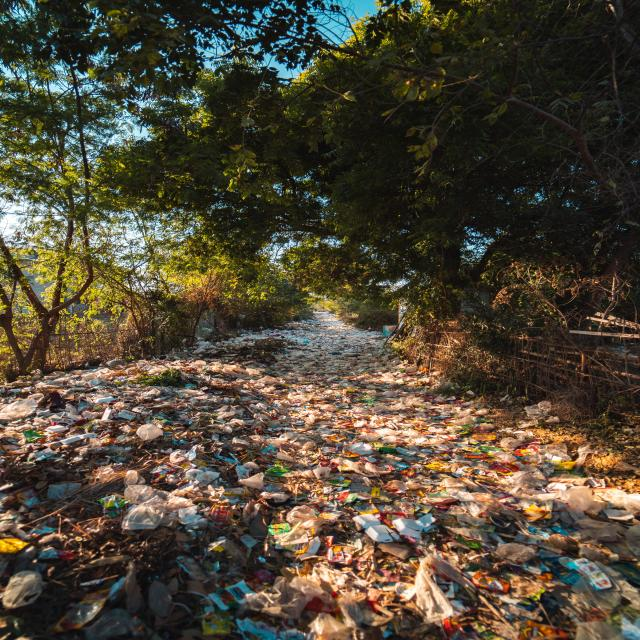trash: (94, 464, 434, 615), (178, 352, 373, 434)
